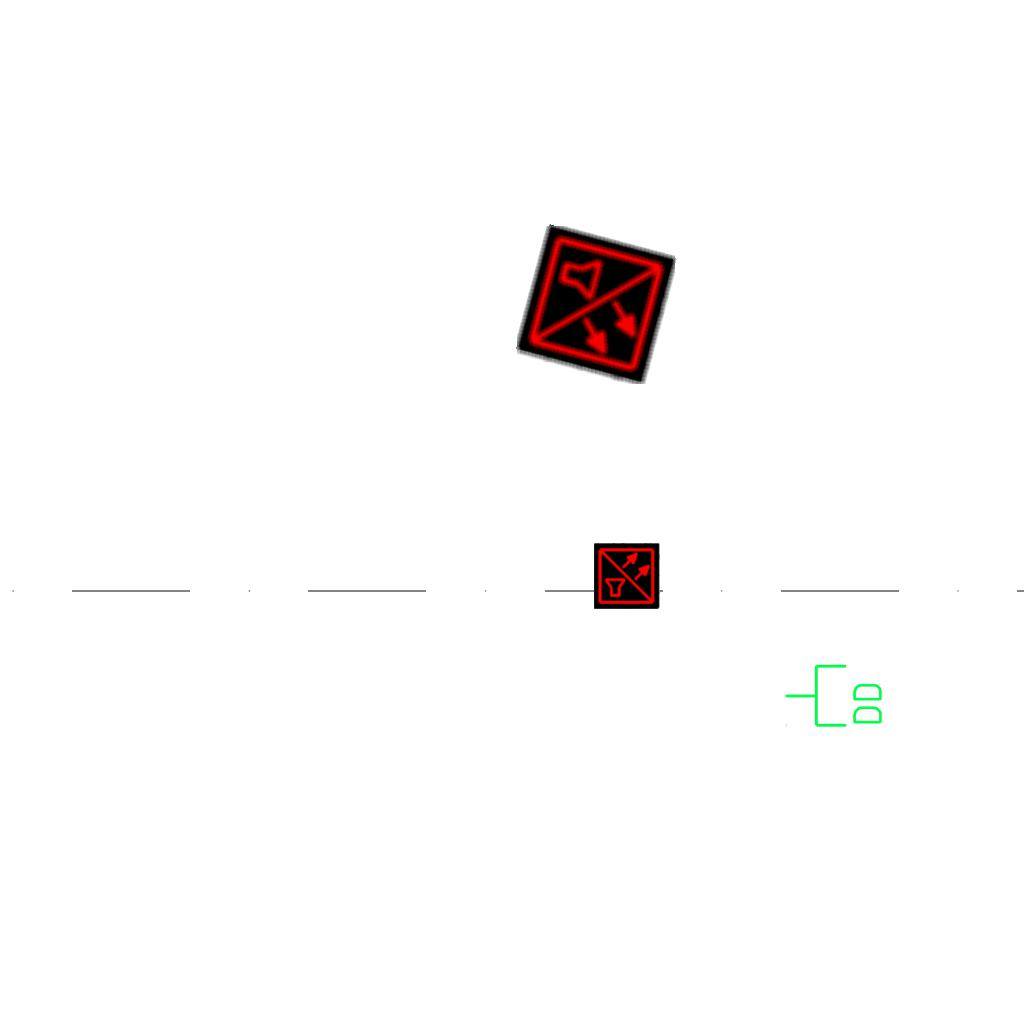Datenanschluss_zweifach: (783, 662, 886, 731)
OKW_Multisensormelder_(Kombination_optischer_Rauch-Kahlenmonoxid_Waerme-Melder): (515, 224, 677, 386), (594, 543, 660, 609)
